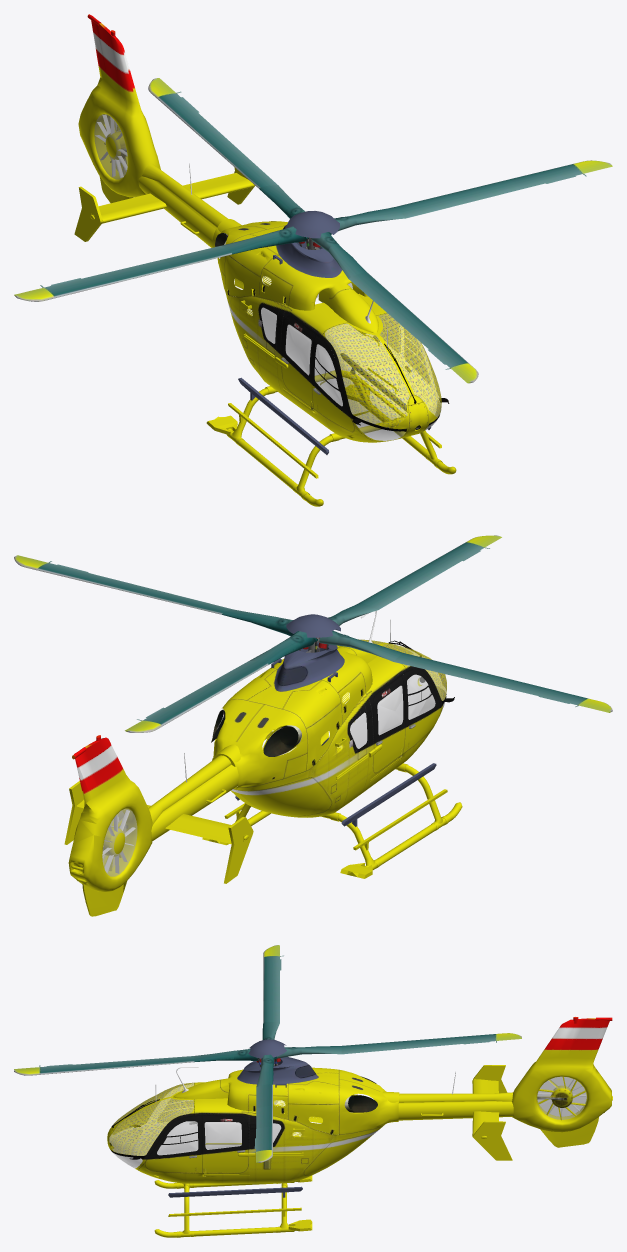
File: Mountain.gltf
The picture shows the model from 3 angles, top to bottom: view 1: azimuth 30°, elevation 25°; view 2: azimuth 150°, elevation 25°; view 3: azimuth 270°, elevation 25°; orthographic projection. The views are drawn at different scales.
Visible parts, largest first — view 1: Exterior, Spin_12, Spin_22, Spin_7, Spin_17, Spin_0, Spin_20, Spin_15, Spin_21, Spin_16, Spin_5, Spin_11 (+2 smaller); view 2: Exterior, Spin_22, Spin_7, Spin_12, Spin_17, Spin_0, Spin_10, Spin_15, Spin_11, Spin_16, Spin_21, Spin_6 (+4 smaller); view 3: Exterior, Spin_17, Spin_7, Spin_22, Spin_12, Spin_0, Spin_5, Spin_6.
Part boxes in pixels (bbox=[...]): Exterior: bbox=[74, 14, 456, 506]; Spin_12: bbox=[14, 273, 117, 301]; Spin_22: bbox=[510, 160, 612, 189]; Spin_7: bbox=[148, 78, 212, 130]; Spin_17: bbox=[414, 331, 478, 383]; Spin_0: bbox=[287, 211, 339, 238]; Spin_20: bbox=[396, 192, 463, 218]; Spin_15: bbox=[348, 272, 400, 307]; Spin_21: bbox=[454, 179, 519, 203]; Spin_16: bbox=[382, 302, 432, 336]; Spin_5: bbox=[225, 155, 277, 188]; Spin_11: bbox=[107, 259, 173, 282]; Exterior: bbox=[64, 610, 462, 916]; Spin_22: bbox=[14, 555, 113, 585]; Spin_7: bbox=[125, 699, 199, 732]; Spin_12: bbox=[513, 682, 612, 712]; Spin_17: bbox=[428, 535, 501, 569]; Spin_0: bbox=[286, 614, 340, 637]; Spin_10: bbox=[393, 653, 464, 675]; Spin_15: bbox=[359, 583, 412, 609]; Spin_11: bbox=[454, 668, 522, 689]; Spin_16: bbox=[395, 564, 446, 589]; Spin_21: bbox=[103, 579, 171, 599]; Spin_6: bbox=[180, 680, 233, 704]; Exterior: bbox=[107, 1017, 612, 1237]; Spin_17: bbox=[14, 1063, 94, 1075]; Spin_7: bbox=[441, 1033, 521, 1045]; Spin_22: bbox=[252, 1126, 272, 1162]; Spin_12: bbox=[263, 945, 283, 980]; Spin_0: bbox=[248, 1039, 286, 1058]; Spin_5: bbox=[341, 1042, 392, 1054]; Spin_6: bbox=[392, 1038, 441, 1049].
Size of the model in its own units: 10.1 by 4.3 by 11.86.
Materials: 13 (6 with a texture image).
